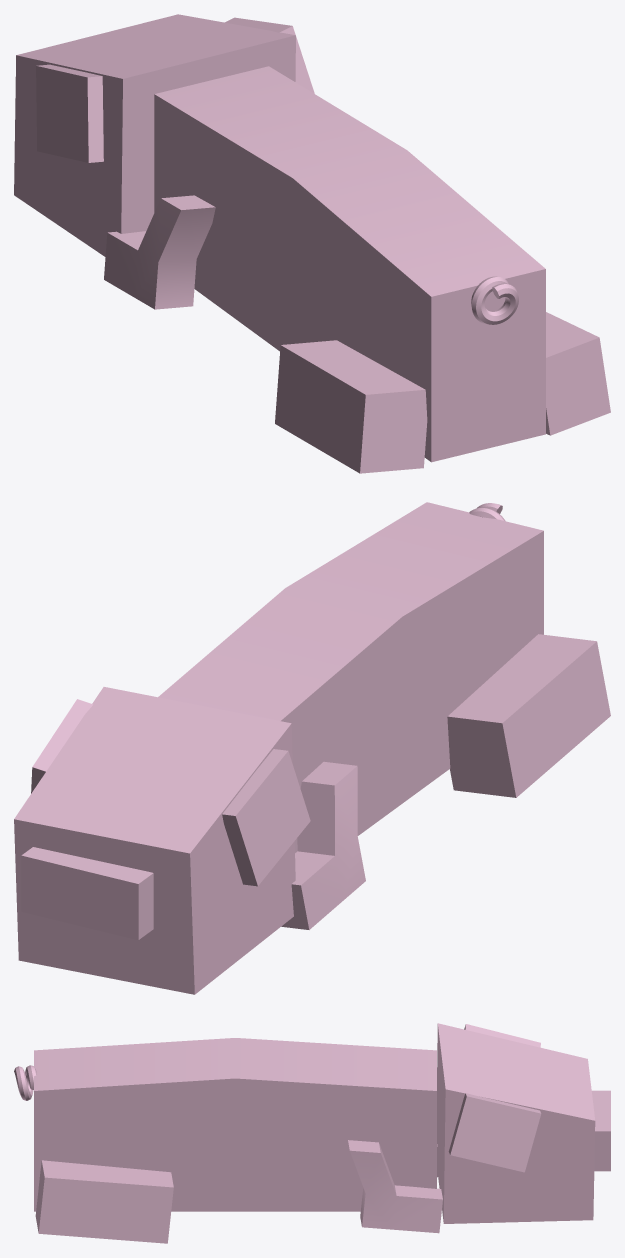
Rendered from Factory_Pig.fbx.
3 views of the same model, one above another, from view 1: azimuth 30°, elevation 25°; view 2: azimuth 150°, elevation 25°; view 3: azimuth 270°, elevation 25° (orthographic). The views are drawn at different scales.
Visible parts, largest first — view 1: Pig; view 2: Pig; view 3: Pig.
Part boxes in pixels (x1,y1,x2,y2): Pig: (14,14,610,473); Pig: (14,502,610,994); Pig: (14,1023,610,1243).
Bounding box in the file's own units: 1.1 × 0.8738 × 3.1.
